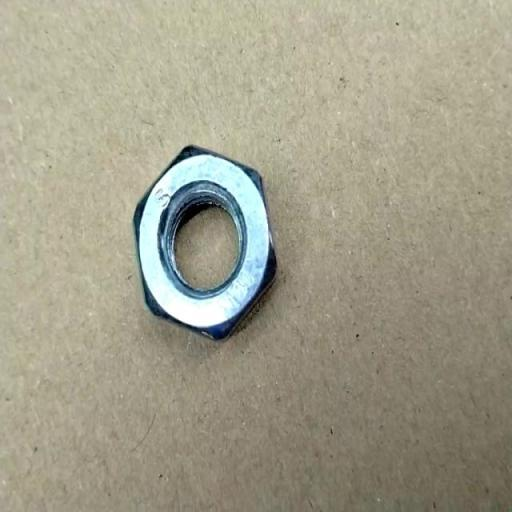Nut: (131, 144, 278, 344)
